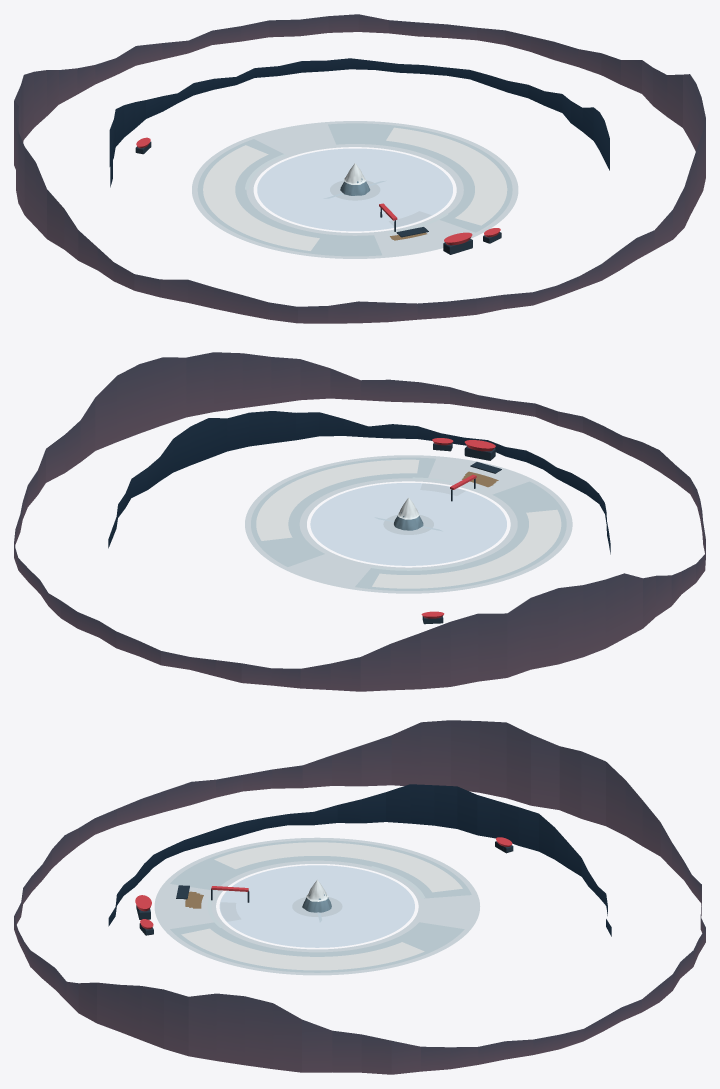
The model's file is rowplay-venue-skierg-ultra.glb.
The picture shows the model from 3 angles, top to bottom: view 1: azimuth 30°, elevation 25°; view 2: azimuth 150°, elevation 25°; view 3: azimuth 270°, elevation 25°; orthographic projection.
Parts seen in each view (by area): view 1: environment:skierg:horizon-far, environment:skierg:stadium-field, environment:skierg:apron, environment:skierg:horizon-mid, environment:skierg:valley-sun-2, environment:skierg:valley-shadow-2, environment:skierg:valley-shadow-1, environment:skierg:valley-sun-1, environment:skierg:valley-sun-3; view 2: environment:skierg:horizon-far, environment:skierg:stadium-field, environment:skierg:horizon-mid, environment:skierg:apron, environment:skierg:valley-sun-2, environment:skierg:valley-sun-1, environment:skierg:valley-shadow-2, environment:skierg:valley-shadow-1, environment:skierg:valley-sun-3; view 3: environment:skierg:horizon-far, environment:skierg:horizon-mid, environment:skierg:stadium-field, environment:skierg:apron, environment:skierg:valley-sun-1, environment:skierg:valley-sun-2, environment:skierg:valley-shadow-2, environment:skierg:valley-shadow-1, environment:skierg:valley-sun-3.
Boxes of the visible parts, x1,y1,x2,y2 form: environment:skierg:horizon-far: (14,14,705,323); environment:skierg:stadium-field: (257,148,452,231); environment:skierg:apron: (192,121,518,258); environment:skierg:horizon-mid: (109,58,609,187); environment:skierg:valley-sun-2: (386,127,507,225); environment:skierg:valley-shadow-2: (328,123,512,232); environment:skierg:valley-shadow-1: (198,139,381,256); environment:skierg:valley-sun-1: (203,145,319,250); environment:skierg:valley-sun-3: (203,153,257,189); environment:skierg:horizon-far: (14,352,705,691); environment:skierg:stadium-field: (310,483,506,565); environment:skierg:horizon-mid: (108,411,610,554); environment:skierg:apron: (245,455,572,593); environment:skierg:valley-sun-2: (256,459,419,540); environment:skierg:valley-sun-1: (372,509,561,588); environment:skierg:valley-shadow-2: (251,457,435,566); environment:skierg:valley-shadow-1: (355,481,566,590); environment:skierg:valley-sun-3: (387,568,481,588); environment:skierg:horizon-far: (14,720,705,1074); environment:skierg:horizon-mid: (108,784,611,936); environment:skierg:stadium-field: (219,865,414,947); environment:skierg:apron: (154,837,480,975); environment:skierg:valley-sun-1: (214,842,462,892); environment:skierg:valley-sun-2: (181,928,424,970); environment:skierg:valley-shadow-2: (170,922,464,972); environment:skierg:valley-shadow-1: (170,840,471,898); environment:skierg:valley-sun-3: (377,851,456,887).
Bounding box in the file's own units: 231 × 34.39 × 234.
